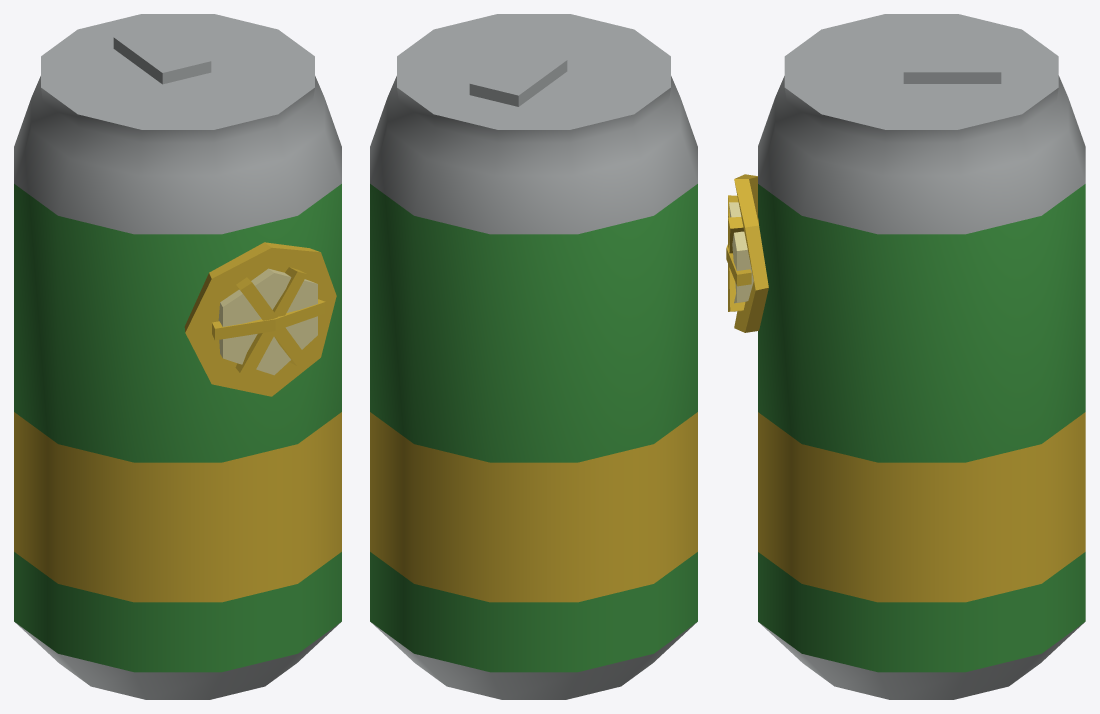
File: hh_lon_xanh.glb
3 views of the same model, side by side, from view 1: azimuth 30°, elevation 25°; view 2: azimuth 150°, elevation 25°; view 3: azimuth 270°, elevation 25° (orthographic).
Visible parts, largest first — view 1: hh_lon_xanh; view 2: hh_lon_xanh; view 3: hh_lon_xanh.
Part boxes in pixels (x1,y1,x2,y2): hh_lon_xanh: (14, 14, 341, 699); hh_lon_xanh: (370, 14, 697, 699); hh_lon_xanh: (726, 14, 1085, 699).
Bounding box in the file's own units: 0.0638 × 0.1265 × 0.0699.
